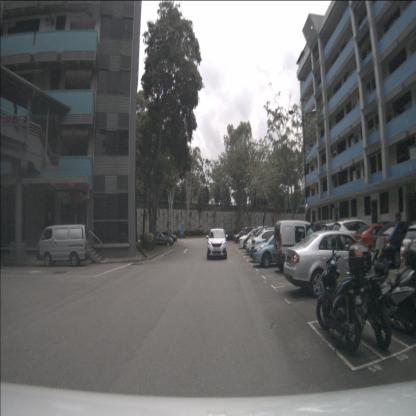human-pedestrian-adult: (307, 221, 315, 274)
vehicle-car: (284, 230, 381, 298), (273, 219, 328, 273), (36, 224, 90, 267), (372, 220, 416, 269), (252, 231, 297, 267), (332, 219, 368, 258), (351, 224, 384, 252), (400, 222, 416, 264), (207, 228, 227, 260), (251, 229, 276, 251), (150, 230, 174, 247), (162, 230, 177, 244), (223, 229, 236, 242), (239, 234, 250, 249)
vehicle-motorcycle: (316, 244, 372, 356), (345, 251, 401, 351), (369, 235, 416, 339)
